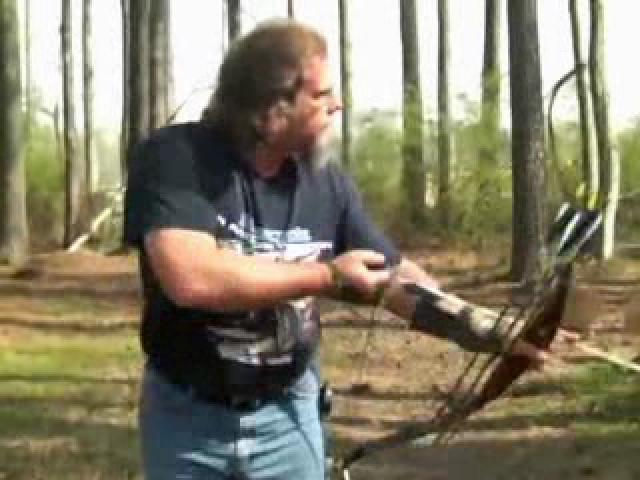I: (124, 12, 544, 476)
